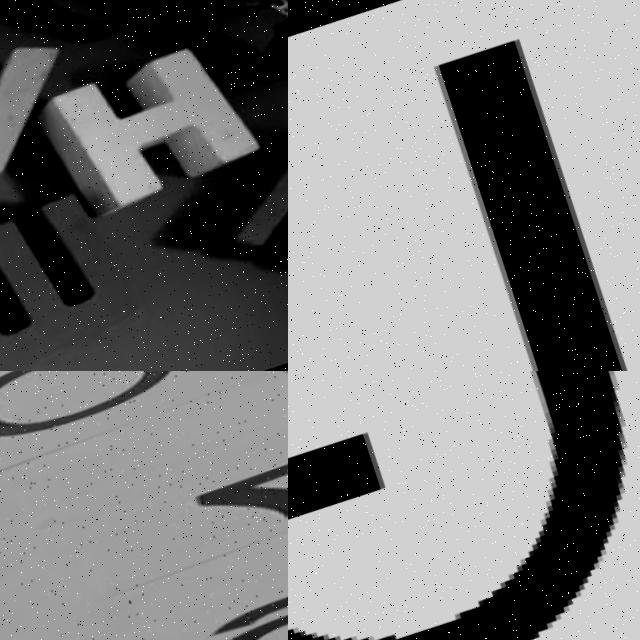0: (0, 371, 214, 487)
6: (179, 529, 288, 640)
7: (168, 401, 288, 566)
G: (288, 371, 640, 640), (0, 0, 203, 65)
H: (0, 5, 282, 246)
I: (387, 11, 640, 371)
L: (0, 0, 131, 244)
M: (201, 61, 288, 299)
W: (0, 160, 178, 371)
